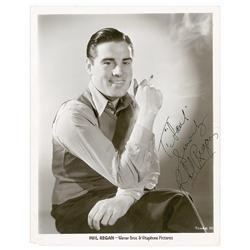bad: (89, 44, 141, 95)
